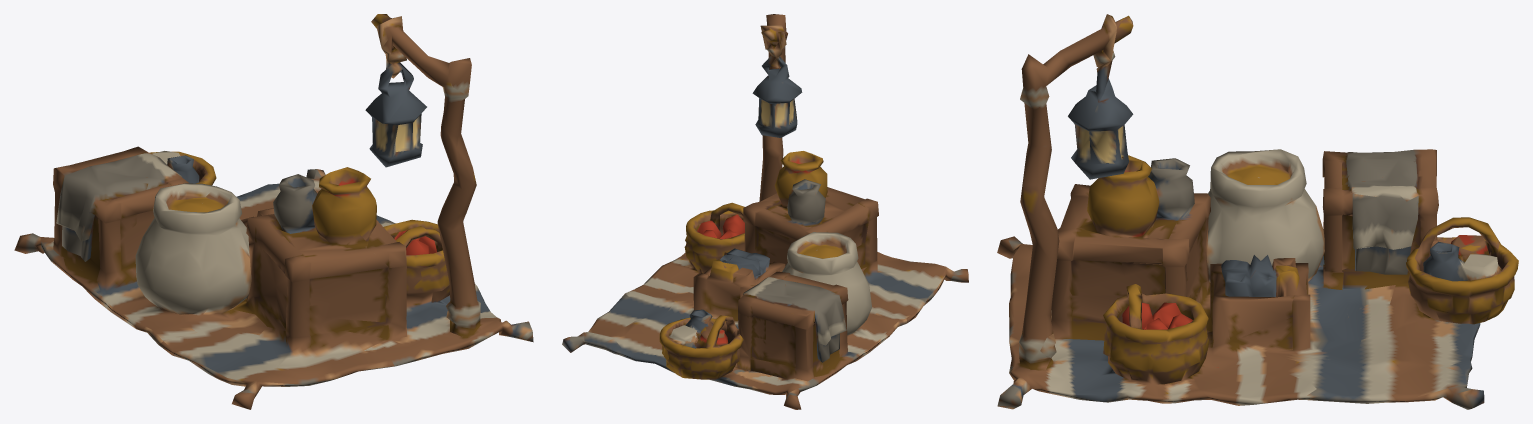
Rendered from stall.glb.
The picture shows the model from 3 angles, left to right: view 1: azimuth 30°, elevation 25°; view 2: azimuth 150°, elevation 25°; view 3: azimuth 270°, elevation 25°; orthographic projection. The views are drawn at different scales.
Visible parts, largest first — view 1: tripo_node_d08b00d3-4d42-4119-a8fb-e668ae71bd12; view 2: tripo_node_d08b00d3-4d42-4119-a8fb-e668ae71bd12; view 3: tripo_node_d08b00d3-4d42-4119-a8fb-e668ae71bd12.
Part boxes in pixels (x1,y1,x2,y2): tripo_node_d08b00d3-4d42-4119-a8fb-e668ae71bd12: (14, 14, 533, 409); tripo_node_d08b00d3-4d42-4119-a8fb-e668ae71bd12: (562, 14, 968, 409); tripo_node_d08b00d3-4d42-4119-a8fb-e668ae71bd12: (997, 14, 1518, 409).
Size of the model in its own units: 0.747 by 0.7251 by 1.
Materials: 1 (1 with a texture image).
